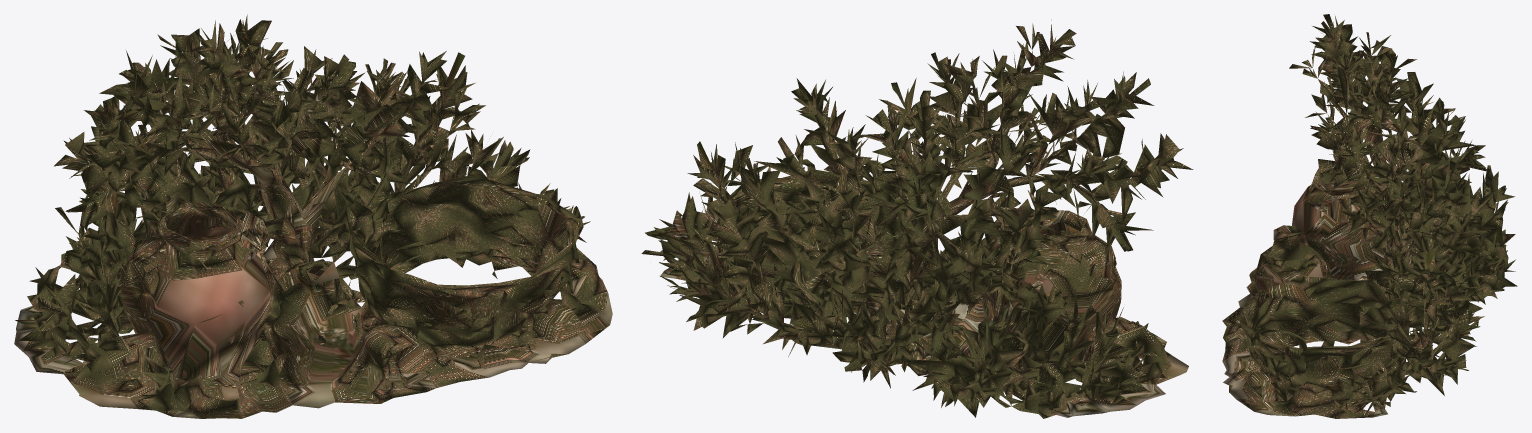
The model's file is olive-basket-cluster-b.glb.
3 renders of one model, left to right at view 1: azimuth 30°, elevation 25°; view 2: azimuth 150°, elevation 25°; view 3: azimuth 270°, elevation 25°, orthographic. The views are drawn at different scales.
Parts seen in each view (by area): view 1: geometry_0; view 2: geometry_0; view 3: geometry_0.
Boxes of the visible parts, box(x1,y1,x2,y2) form: geometry_0: box(14, 14, 612, 418); geometry_0: box(641, 19, 1193, 418); geometry_0: box(1222, 14, 1517, 418).
Bounding box in the file's own units: 1.88 × 1.15 × 1.15.
1 material, 1 textured.
